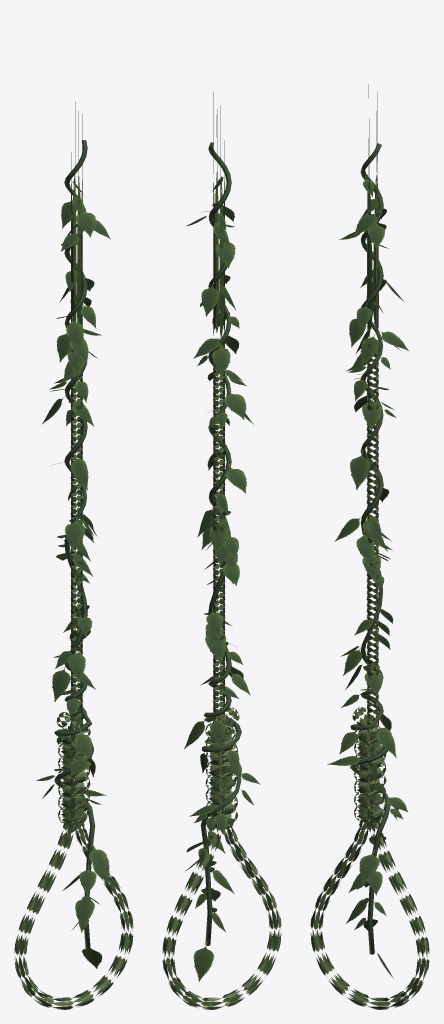
File: Noose.fbx
3 renders of one model, left to right at view 1: azimuth 30°, elevation 25°; view 2: azimuth 210°, elevation 25°; view 3: azimuth 330°, elevation 25°, orthographic.
Parts seen in each view (by area): view 1: Noose.002; view 2: Noose.002; view 3: Noose.002.
Part boxes in pixels (<box>): Noose.002: <box>14,101,133,1009</box>; Noose.002: <box>162,92,281,1009</box>; Noose.002: <box>310,84,429,1009</box>.
Bounding box in the file's own units: 230 × 1844 × 157.
